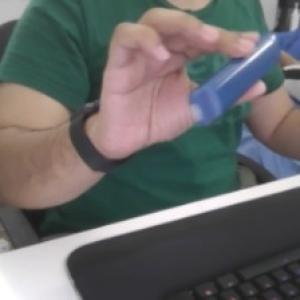Diamond-E-Ciggirate: (188, 31, 283, 132)
